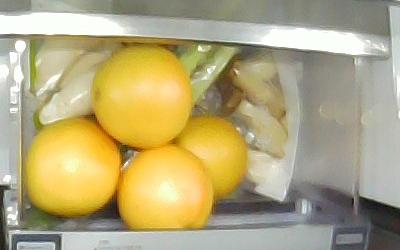grapefruit: (90, 43, 193, 147), (24, 114, 121, 215), (116, 143, 214, 227), (172, 113, 248, 200)
